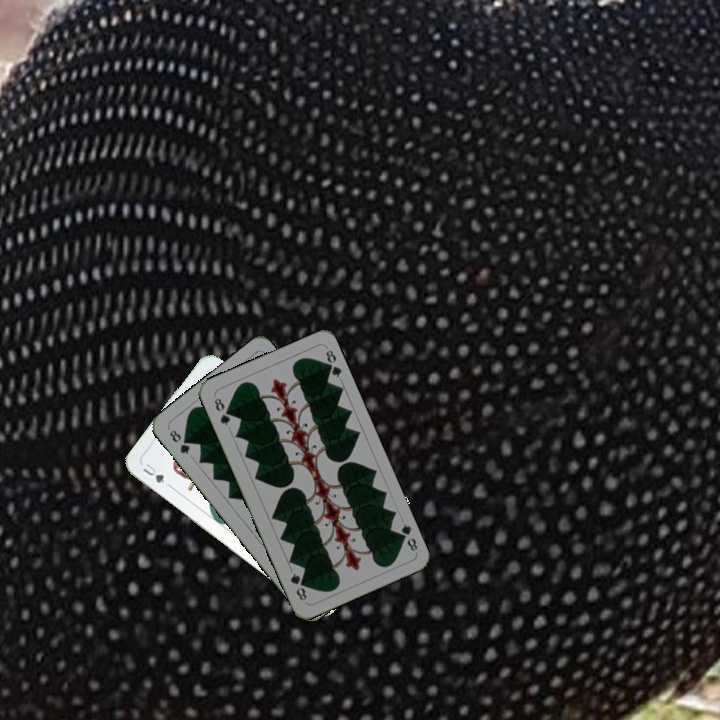G8: (394, 519, 420, 554), (165, 425, 193, 457), (210, 394, 233, 428)
GU: (139, 459, 167, 486)
